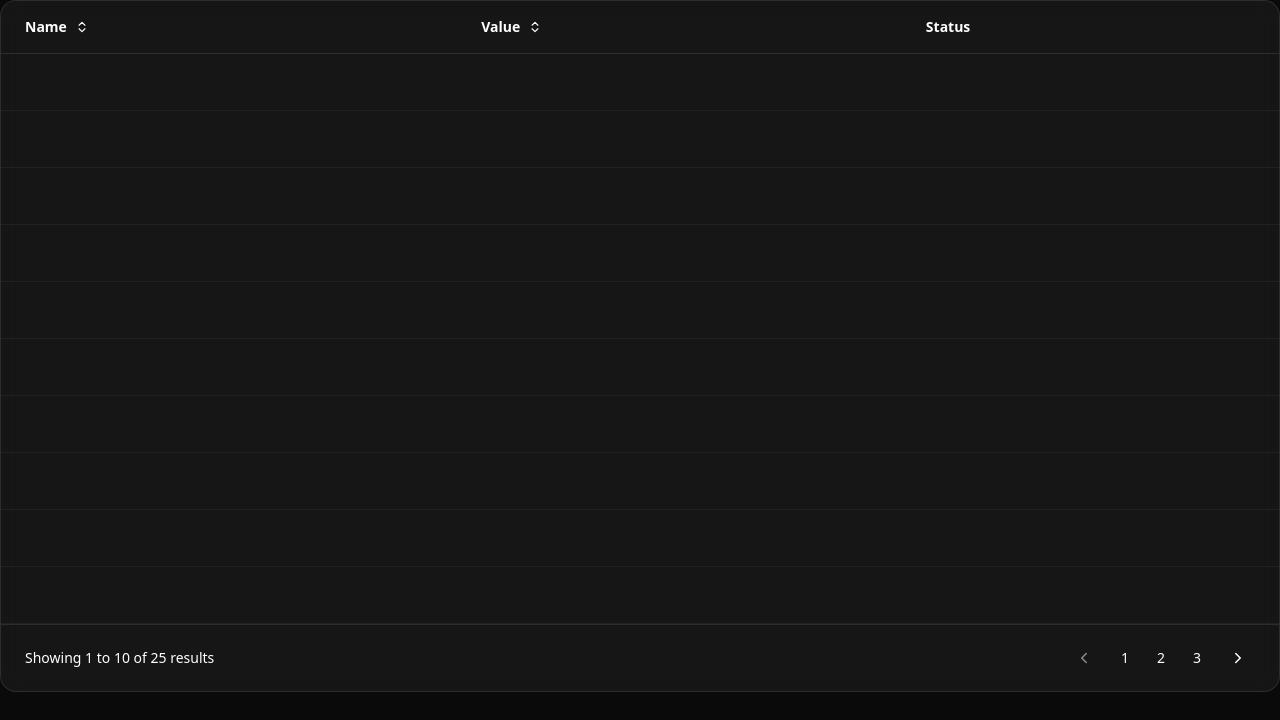
DataTable › navigates to next page
The image size is (1280, 720).
Click the 5th button.
click(1238, 658)  # box [1221, 641, 1255, 675]
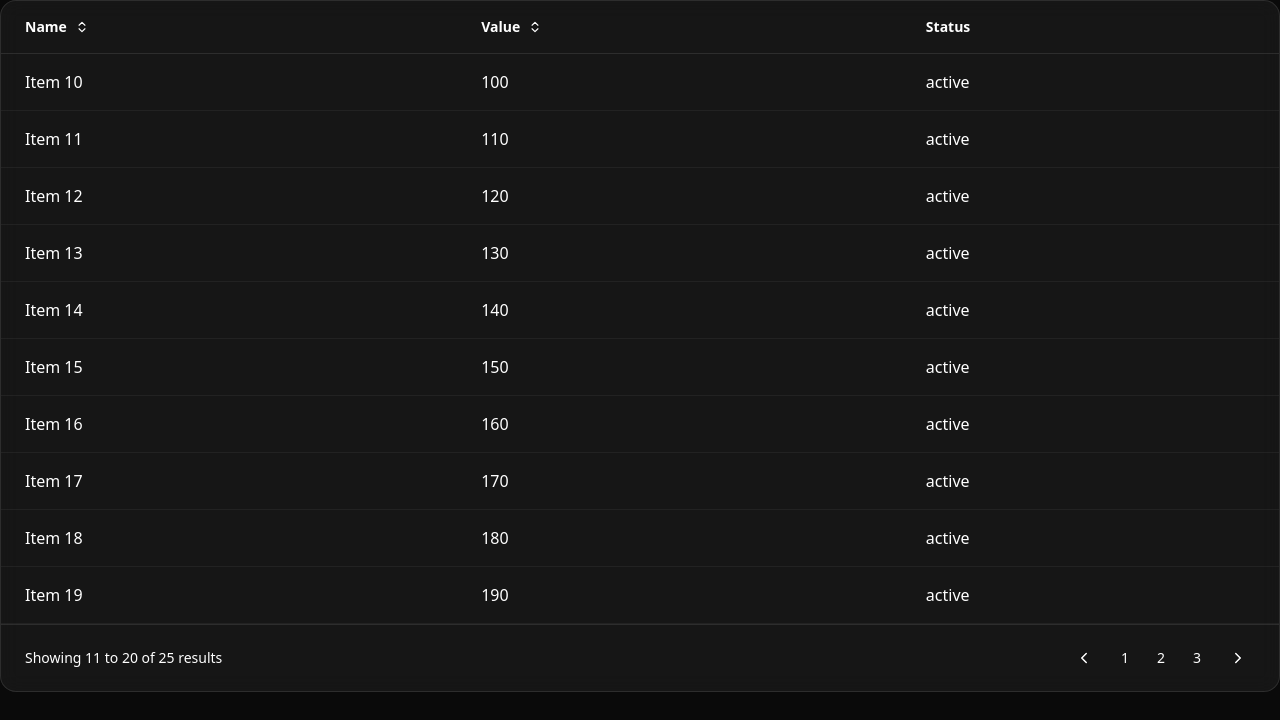
Result: the text "Item 10" is shown at [1, 54, 457, 110]
